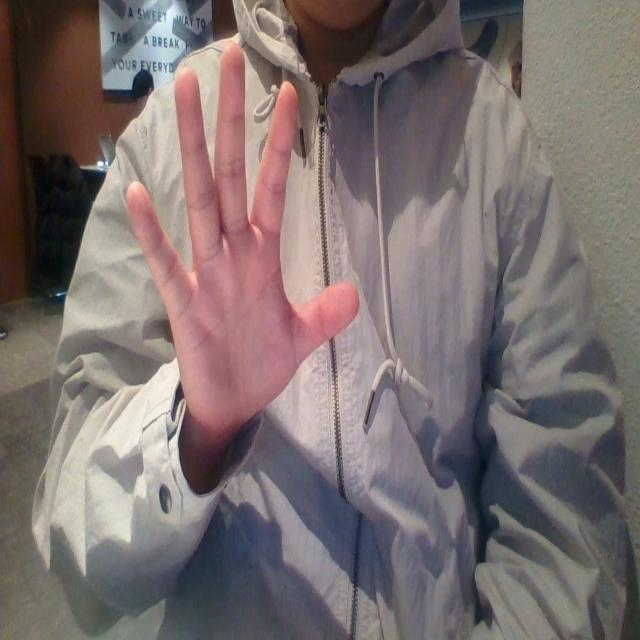hand: (136, 43, 361, 460)
